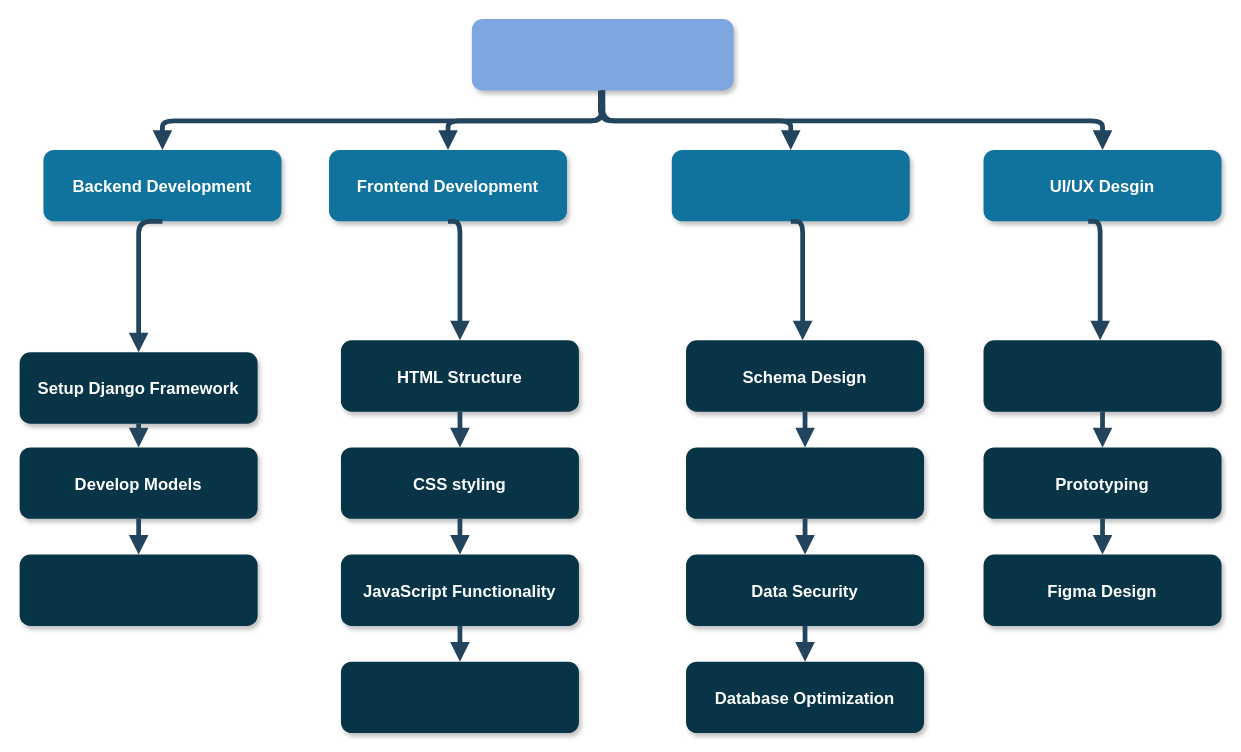
Image size: 1241x752. Some labels were removed from this diagram. Here are the shapes that lost their labels. From the top down, the centre of each, then its label:
the point at 603,56: CHM Web App
the point at 791,187: Database Desgin
the point at 1103,377: Wireframing
the point at 806,484: MySQL Integration
the point at 139,591: Authentication System
the point at 460,698: Responsive Design
